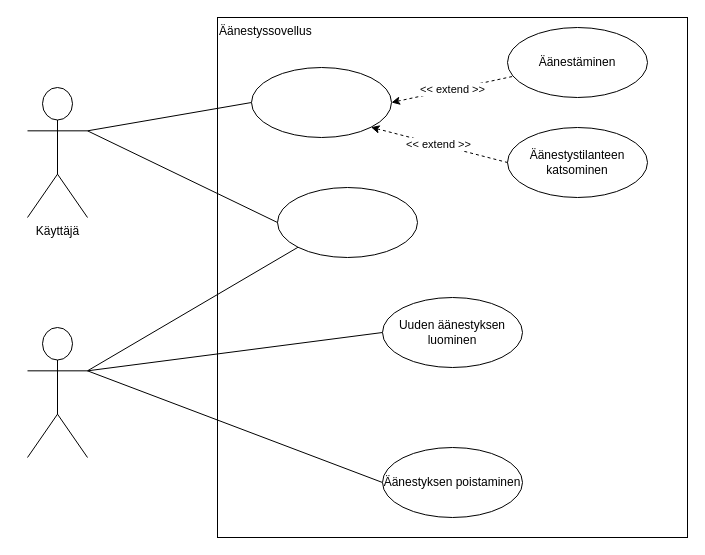
Some shapes in this 705 by 555 pixel diagram are drawn without their labels. The centre of each missing label's shape, as x and y in pixels:
Sivun ylläpitäjä: [57,392]
Äänestyksen valinta: [321,102]
Äänestysten selaaminen: [347,222]
